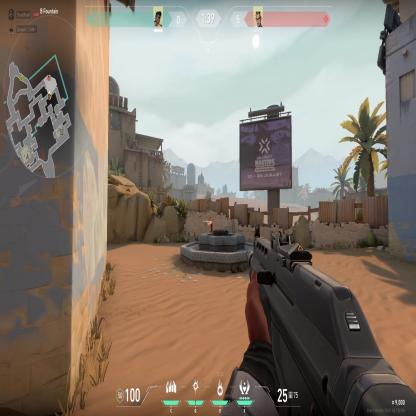enemy: (208, 216, 213, 233)
